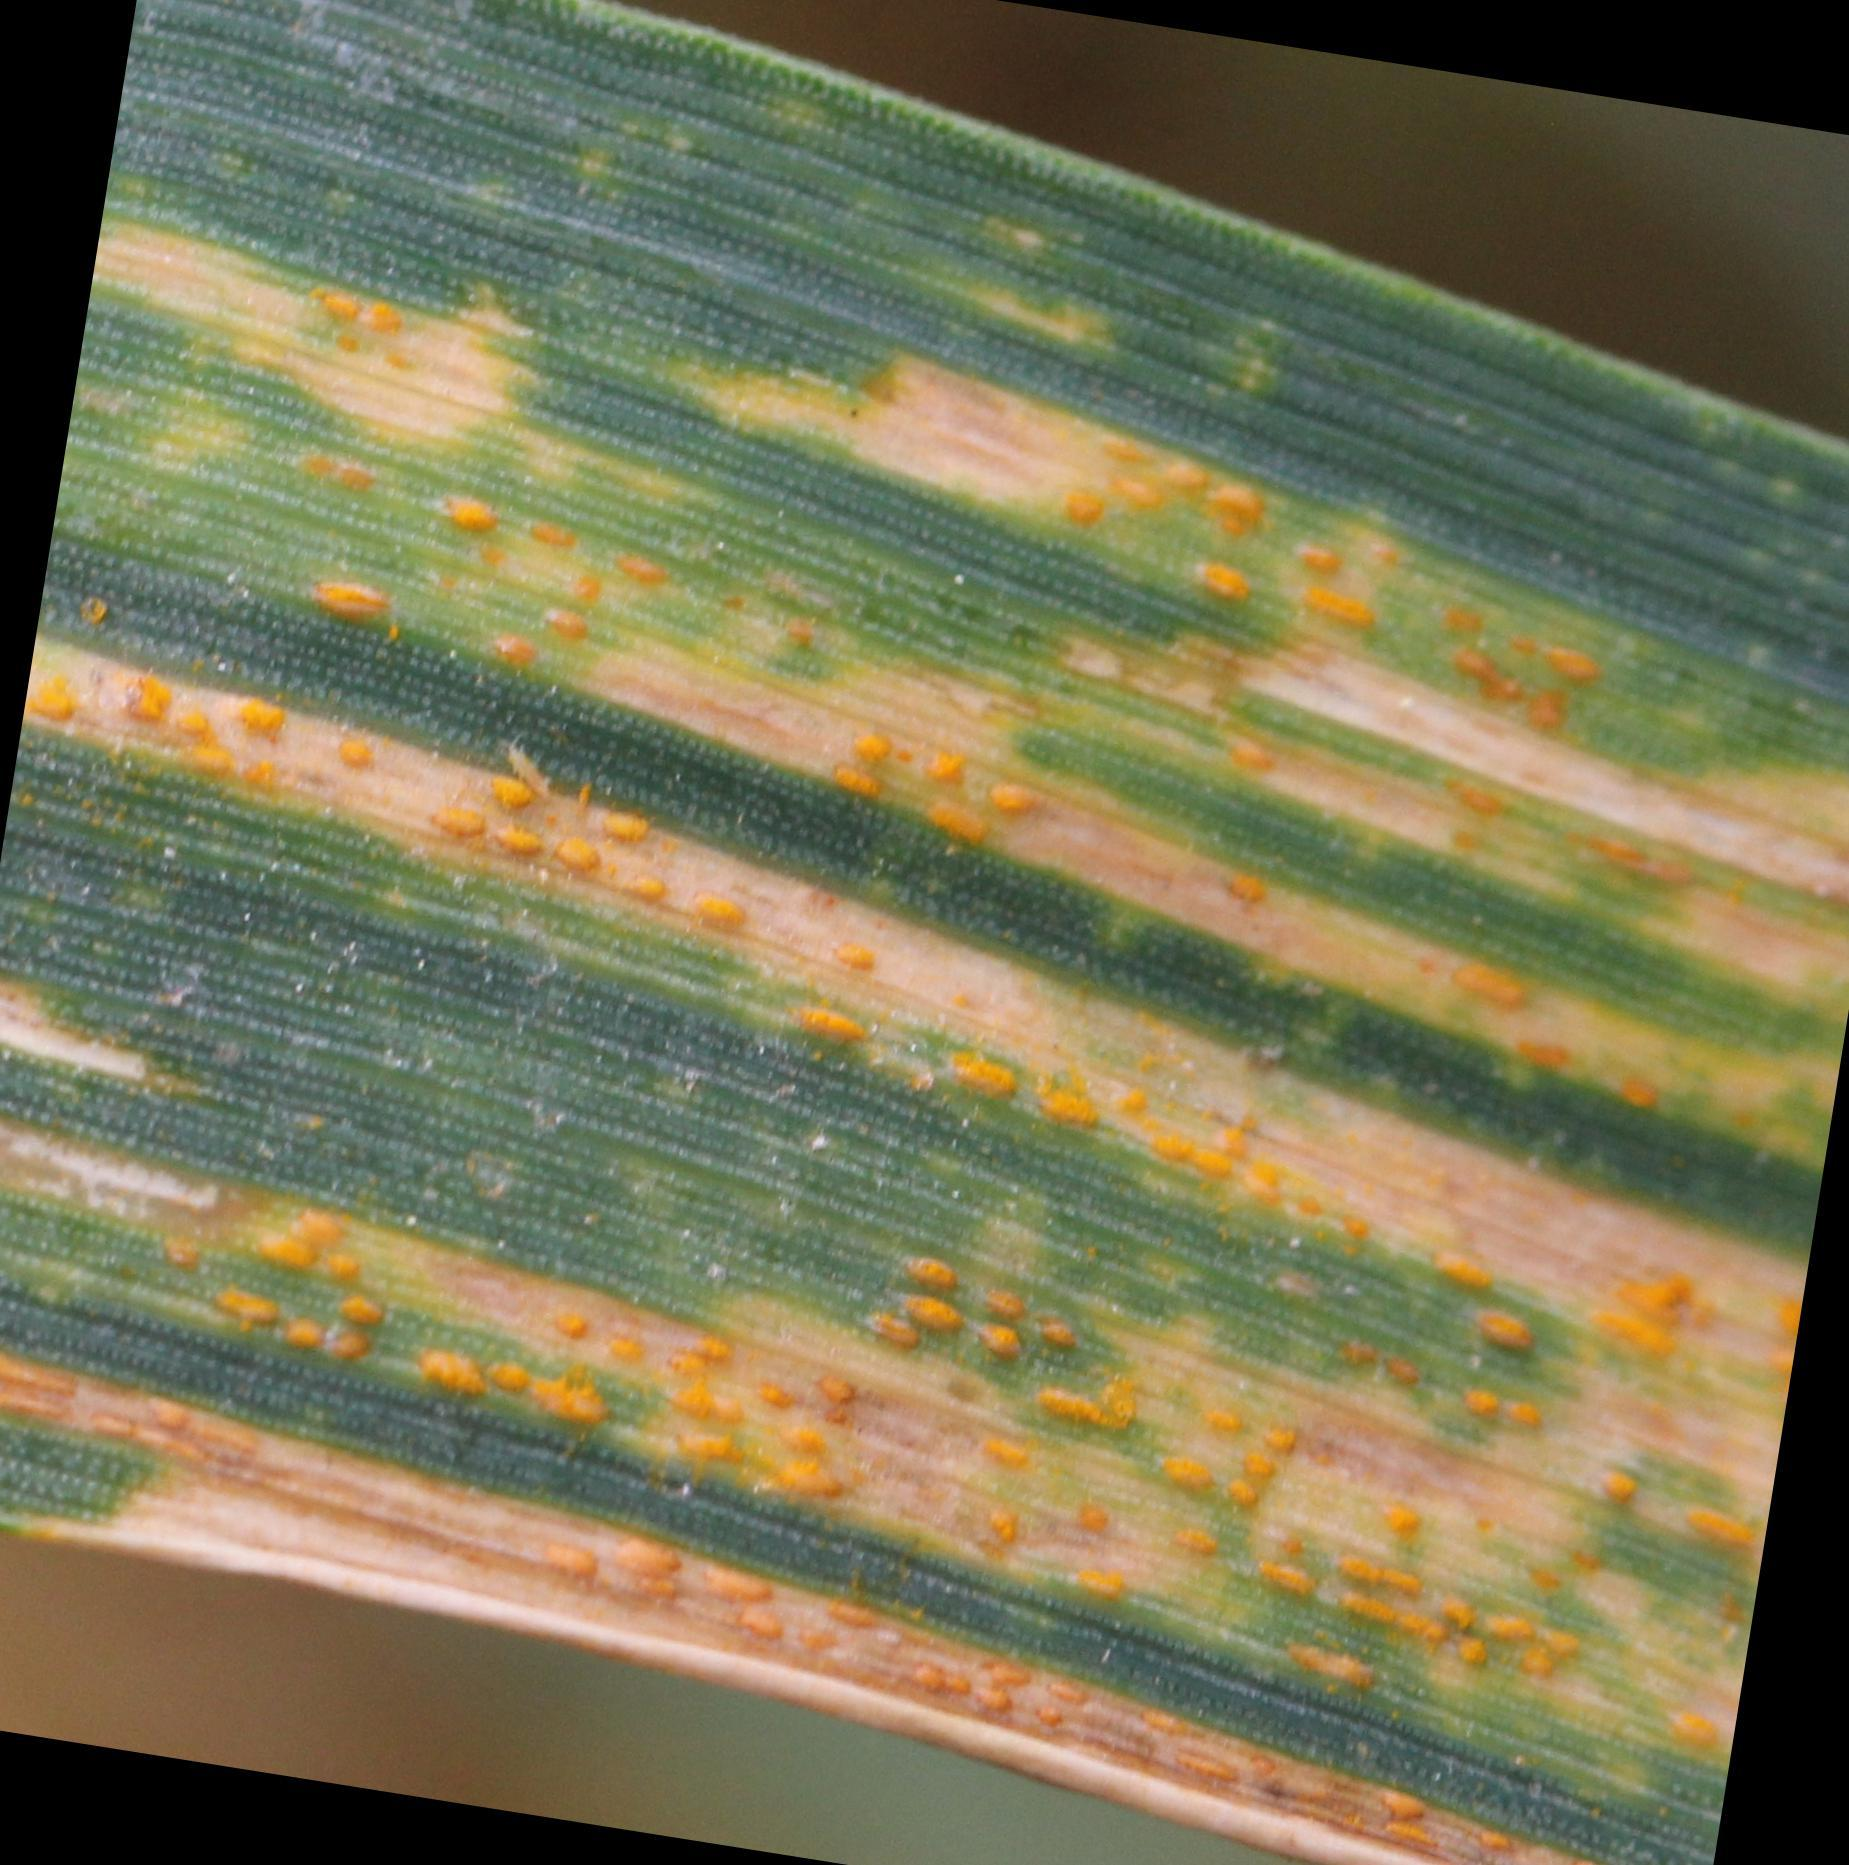Wheat: (130, 220, 1114, 1614), (1131, 307, 1521, 1823), (1556, 1194, 1800, 1528)
